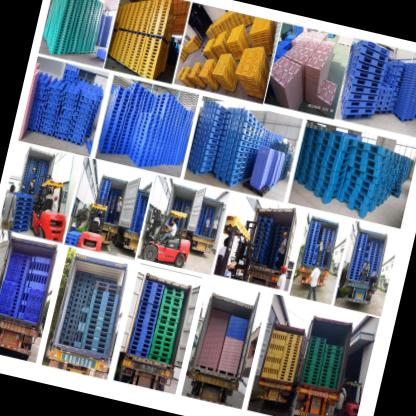BoxFace: (158, 313, 179, 324), (129, 344, 150, 355), (162, 294, 183, 304), (152, 339, 173, 349), (141, 296, 161, 306), (145, 280, 164, 289)
